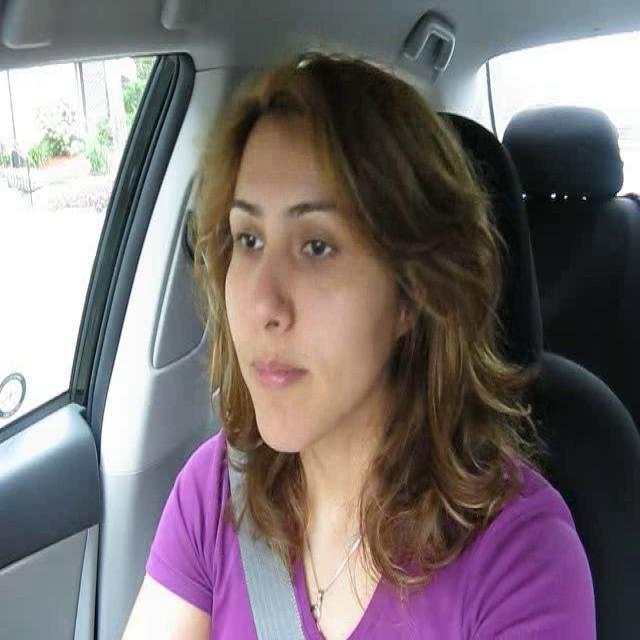open: (282, 196, 363, 284), (223, 194, 273, 276)
